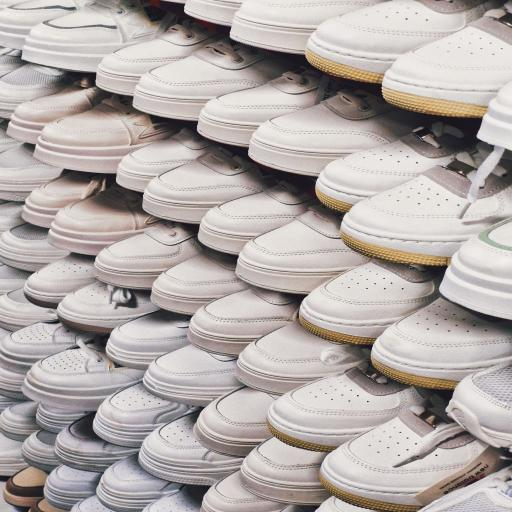shoe: (341, 143, 511, 265), (320, 406, 508, 511), (306, 0, 501, 83), (249, 88, 424, 176), (316, 122, 477, 212), (383, 5, 511, 117), (267, 364, 431, 451), (134, 38, 294, 120), (372, 297, 511, 389), (299, 260, 440, 344), (236, 206, 368, 294), (34, 95, 179, 173), (23, 0, 174, 72), (143, 146, 275, 223), (236, 321, 369, 394), (198, 70, 321, 147), (97, 19, 221, 94), (22, 337, 143, 410), (198, 181, 318, 254), (230, 0, 383, 54), (49, 184, 160, 255), (188, 287, 299, 355), (139, 413, 243, 485), (94, 221, 202, 289), (0, 322, 94, 399), (7, 76, 111, 144), (440, 220, 511, 319), (93, 383, 197, 447), (151, 248, 250, 315), (117, 128, 215, 191), (240, 438, 329, 504), (144, 345, 239, 406), (194, 387, 276, 456), (447, 364, 511, 447), (57, 281, 158, 333), (106, 310, 189, 370), (97, 454, 183, 511), (22, 171, 106, 228), (55, 415, 138, 472), (0, 0, 87, 50), (201, 471, 309, 511), (421, 467, 511, 511), (24, 253, 96, 308), (0, 64, 73, 118), (0, 143, 62, 201), (0, 223, 68, 271), (44, 466, 101, 510), (0, 288, 56, 331), (478, 82, 511, 149), (3, 466, 47, 507), (36, 403, 91, 433), (22, 430, 60, 473), (0, 400, 39, 441), (143, 486, 206, 511), (185, 0, 243, 26), (0, 432, 27, 476), (0, 263, 31, 294), (0, 44, 26, 76), (0, 200, 24, 233), (317, 496, 368, 511), (71, 494, 112, 511), (0, 119, 19, 152), (29, 498, 66, 511), (0, 395, 21, 412)
